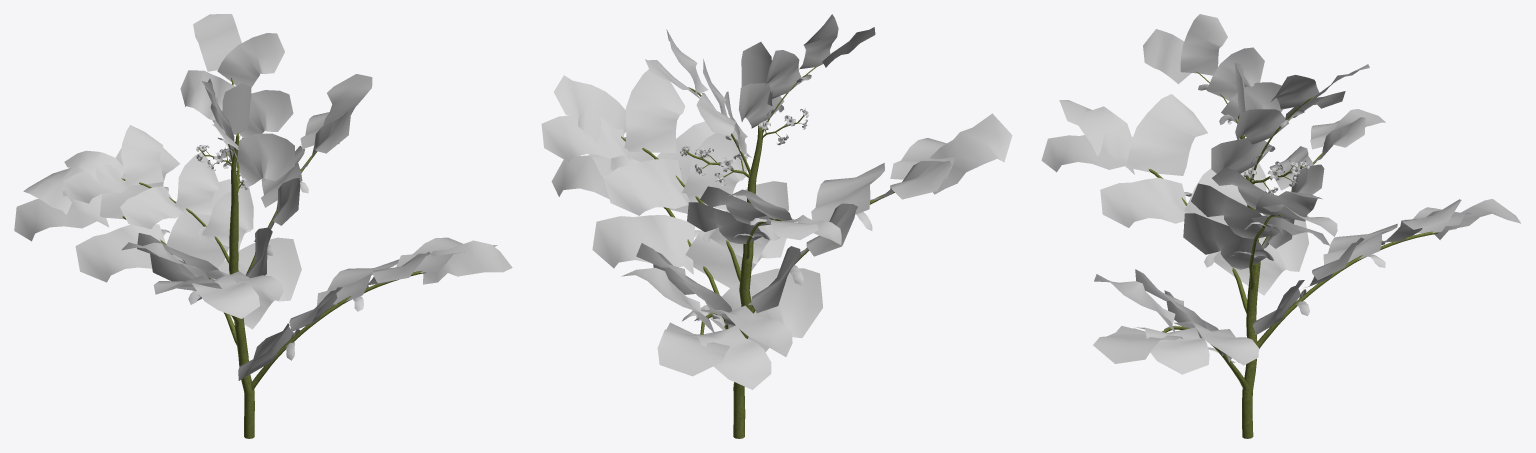
3 views of the same model, side by side, from view 1: azimuth 30°, elevation 25°; view 2: azimuth 150°, elevation 25°; view 3: azimuth 270°, elevation 25° (orthographic). The views are drawn at different scales.
Visible parts, largest first — view 1: lef99, lef71, brn1, brn4, lef1, lef5; view 2: lef99, lef71, brn1, lef5, lef1, brn4, flw1; view 3: lef99, lef71, brn1, brn4, lef5, flw1, brn19.
Part boxes in pixels (left/top/right/bottom): lef99: left=14, top=14, right=512, bottom=331; lef71: left=150, top=92, right=301, bottom=380; brn1: left=229, top=132, right=254, bottom=438; brn4: left=160, top=134, right=351, bottom=389; lef1: left=220, top=83, right=251, bottom=134; lef5: left=161, top=124, right=368, bottom=360; lef99: left=541, top=14, right=1012, bottom=389; lef71: left=653, top=83, right=822, bottom=351; brn1: left=733, top=126, right=762, bottom=438; lef5: left=680, top=74, right=872, bottom=326; lef1: left=741, top=42, right=772, bottom=105; brn4: left=675, top=83, right=809, bottom=329; flw1: left=680, top=109, right=808, bottom=186; lef99: left=1041, top=14, right=1520, bottom=374; lef71: left=1164, top=82, right=1308, bottom=362; brn1: left=1238, top=113, right=1260, bottom=438; brn4: left=1181, top=94, right=1366, bottom=389; lef5: left=1164, top=84, right=1385, bottom=362; flw1: left=1227, top=119, right=1309, bottom=194; brn19: left=1148, top=72, right=1438, bottom=332.
Size of the model in its own units: 0.6277 by 0.6204 by 0.6884.
